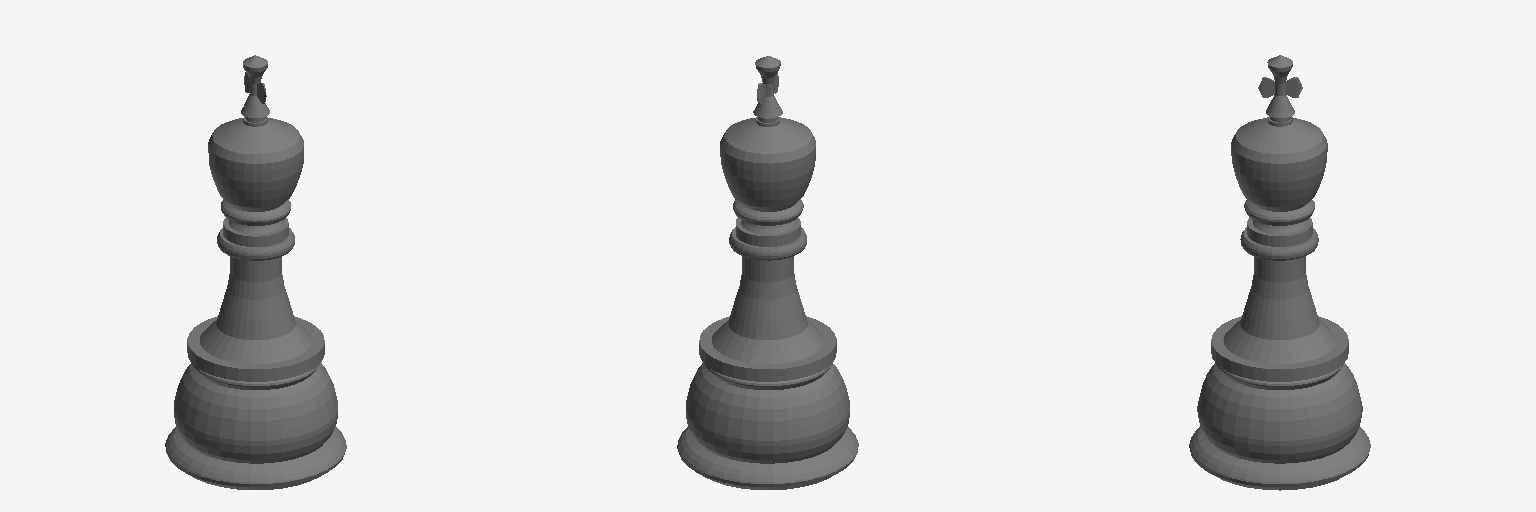
The model's file is king.obj.
The picture shows the model from 3 angles: view 1: azimuth 30°, elevation 25°; view 2: azimuth 150°, elevation 25°; view 3: azimuth 270°, elevation 25°; orthographic projection.
Visible parts, largest first — view 1: król_Circle.002; view 2: król_Circle.002; view 3: król_Circle.002.
Boxes of the visible parts, <box> form: król_Circle.002: <box>165,55,346,489</box>; król_Circle.002: <box>677,56,858,489</box>; król_Circle.002: <box>1189,55,1370,490</box>.
Size of the model in its own units: 0.0865 by 0.2109 by 0.0865.